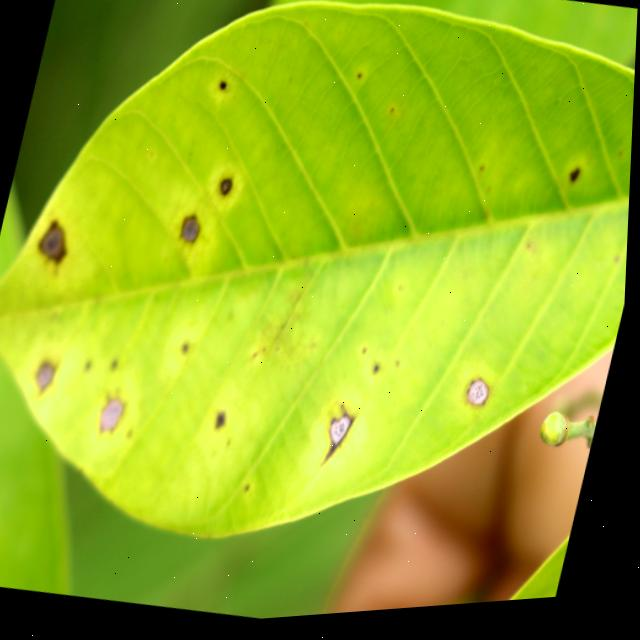Colletotrichum: (467, 383, 497, 417), (181, 216, 205, 248), (220, 180, 235, 201), (570, 175, 584, 194)
